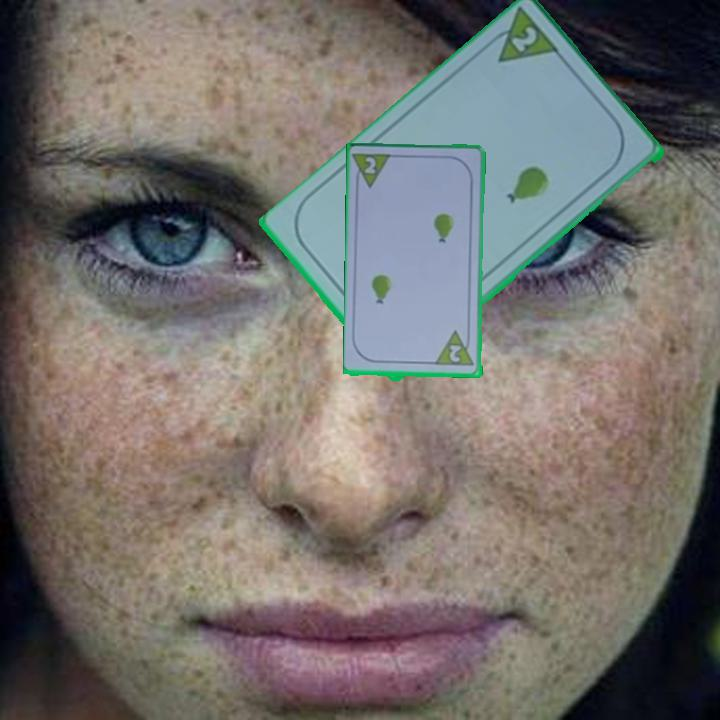2p: (480, 6, 564, 67), (351, 150, 395, 192), (434, 328, 477, 369)
